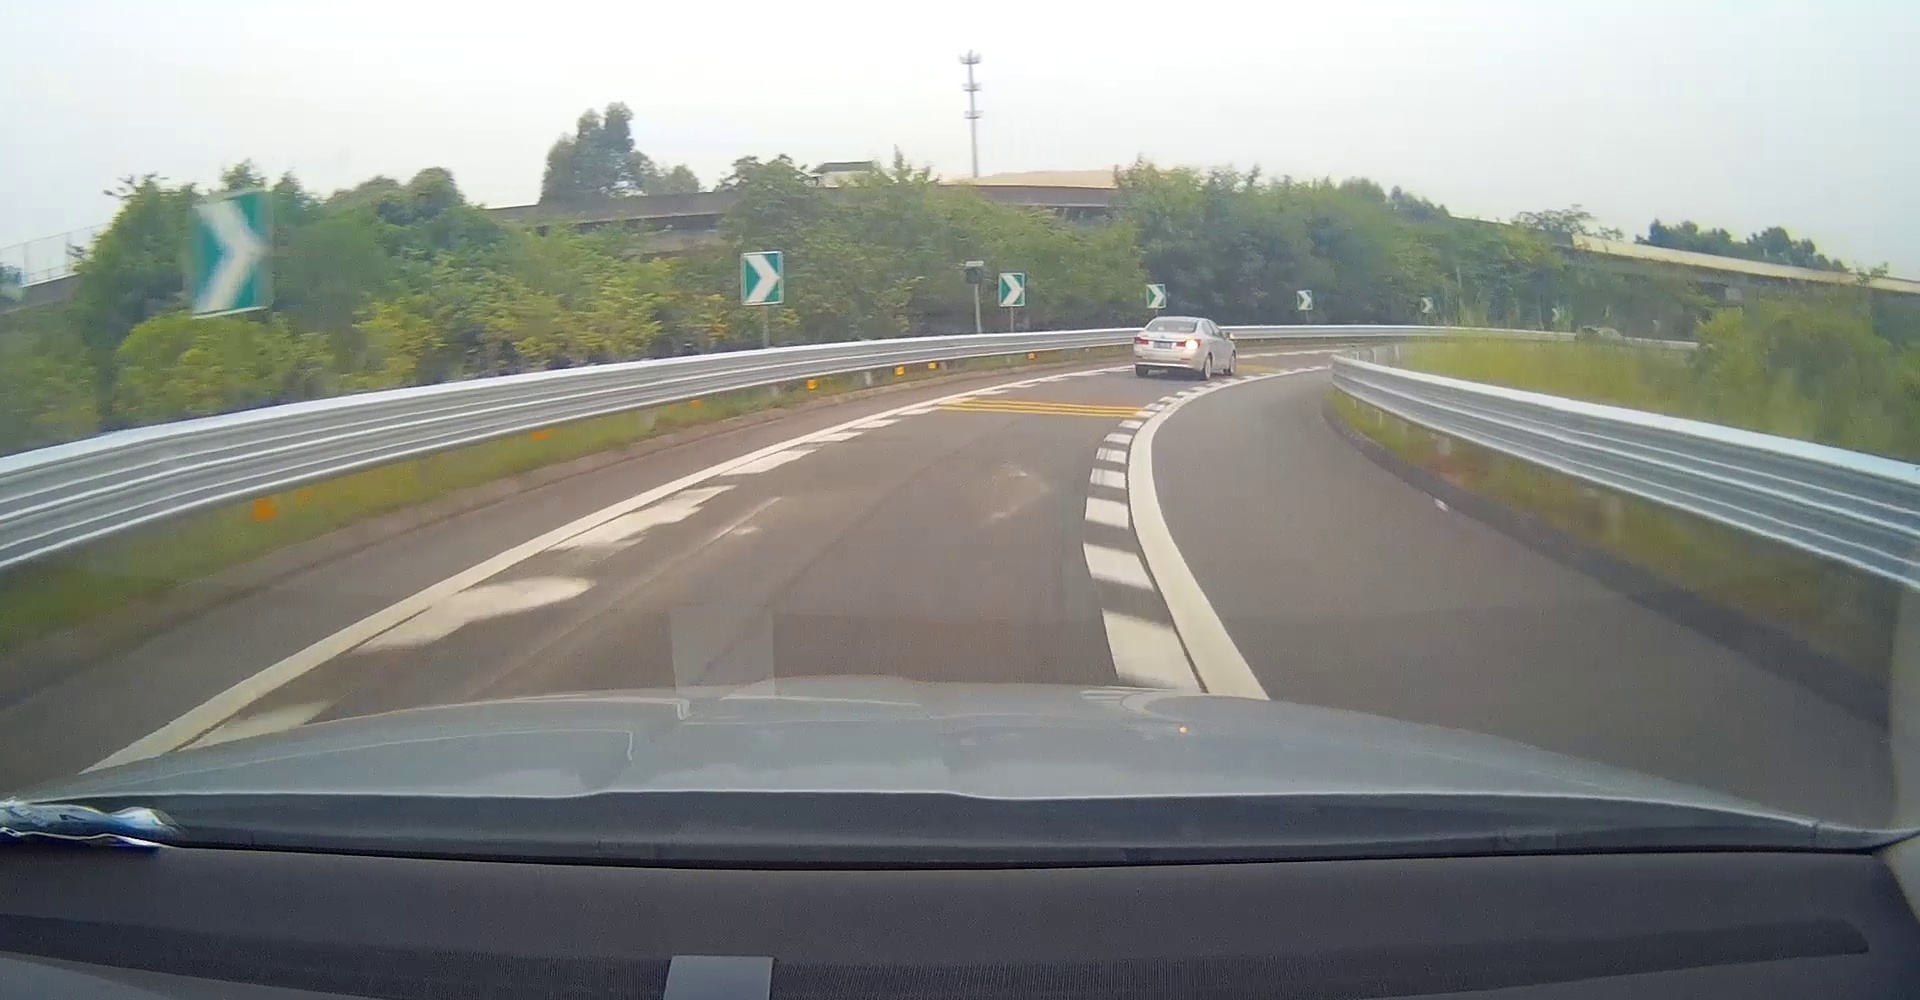L_light: (1134, 336, 1148, 344)
R_light: (1176, 339, 1200, 346)
T_light: (1170, 319, 1180, 324)
day-right: (1133, 317, 1203, 381)
